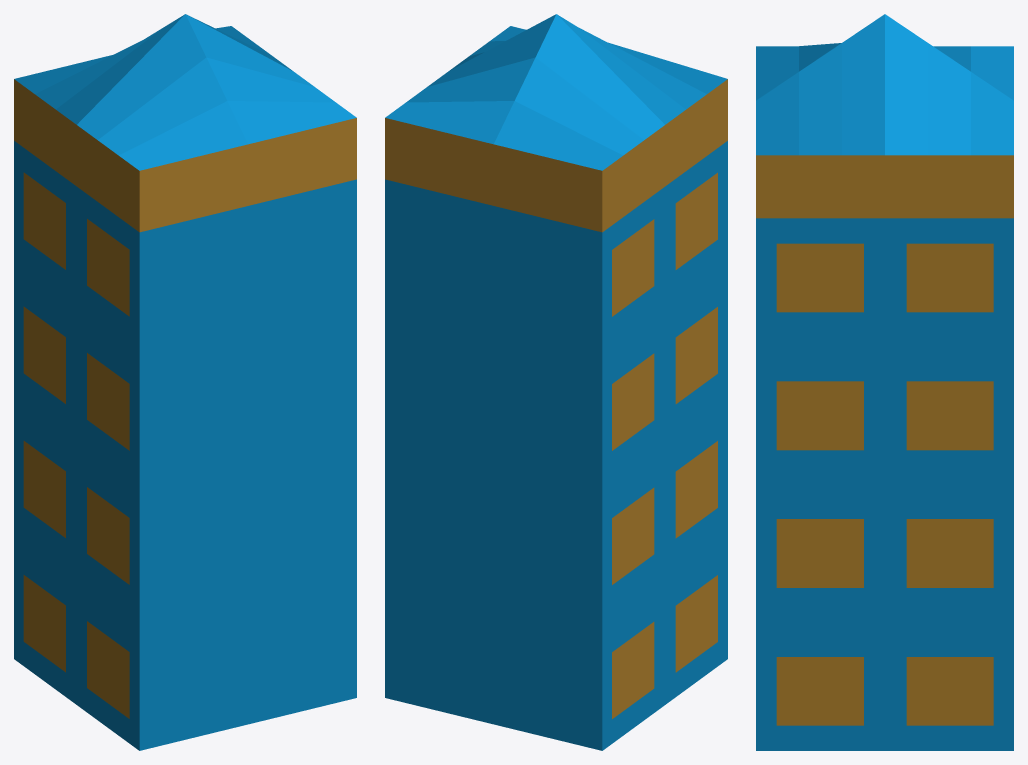
File: Building9.fbx
3 renders of one model, left to right at view 1: azimuth 30°, elevation 25°; view 2: azimuth 150°, elevation 25°; view 3: azimuth 270°, elevation 25°, orthographic. The views are drawn at different scales.
Visible parts, largest first — view 1: Cube; view 2: Cube; view 3: Cube.
Boxes of the visible parts, x1,y1,x2,y2 form: Cube: (14, 14, 356, 750); Cube: (385, 14, 727, 750); Cube: (756, 14, 1013, 750).
Size of the model in its own units: 314 by 918 by 314.
